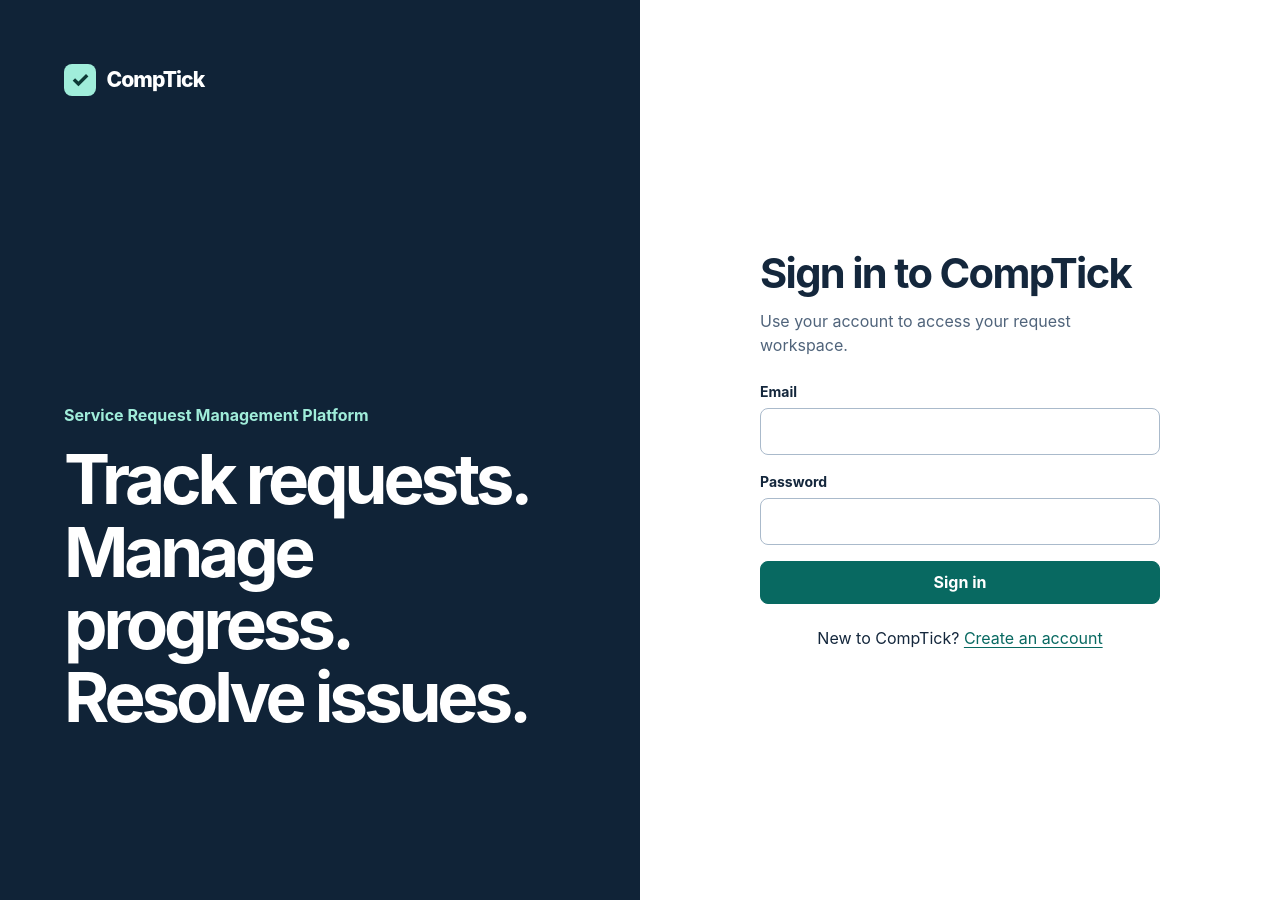
protects workspace routes and validates login before sending credentials
Check: the heading "Sign in to CompTick" is shown, box [760,250,1160,298]
Click the button "Sign in".
click(960, 582)  # box [760,561,1160,604]
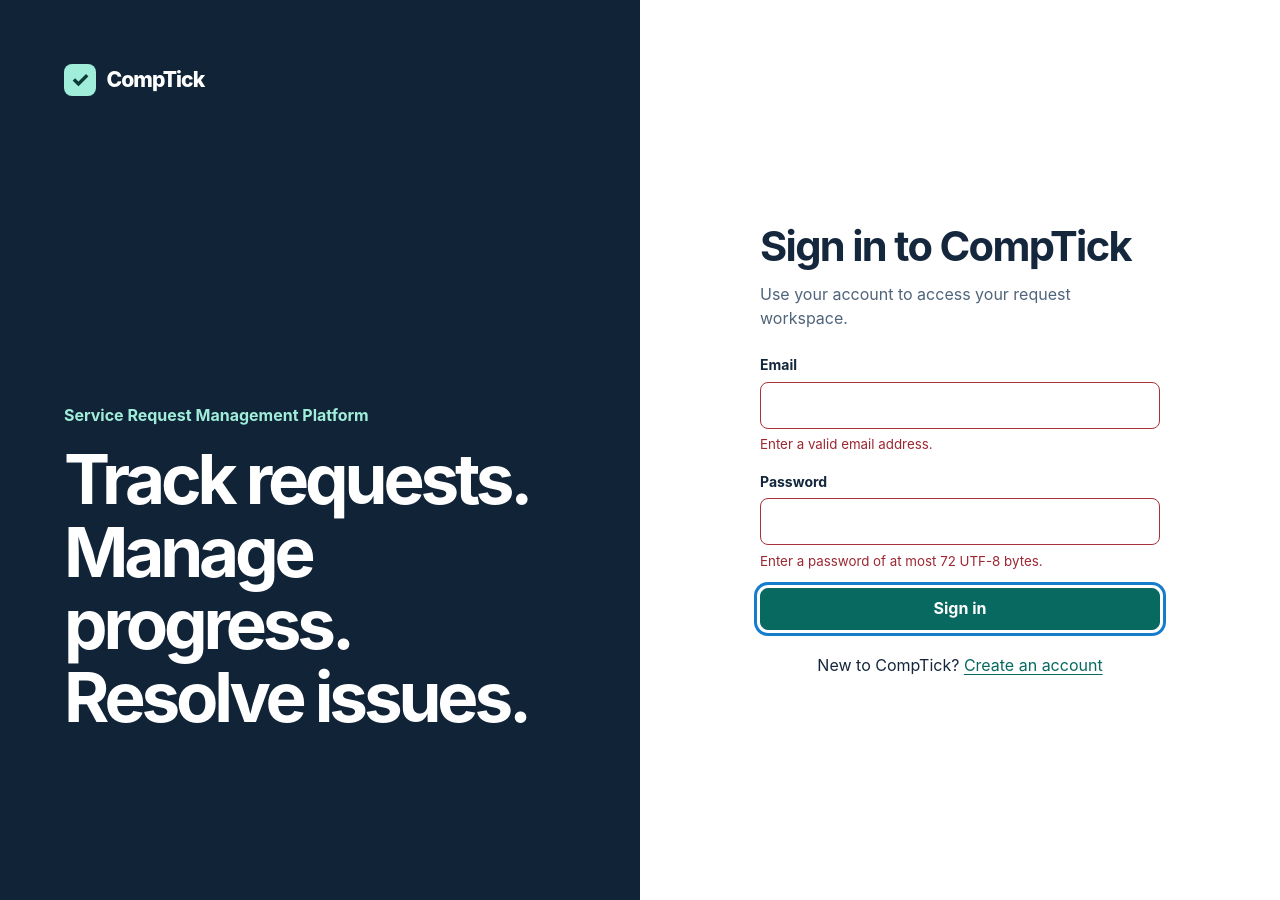
Check: the text "Enter a valid email address." is shown, box [760,436,933,452]
